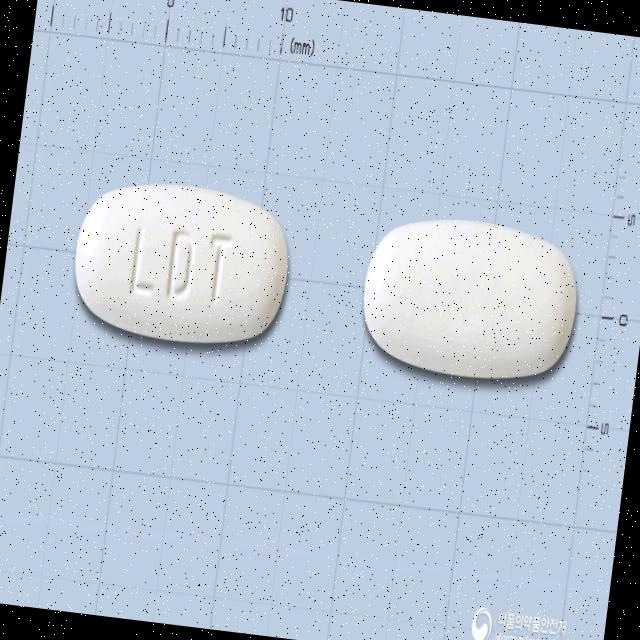Sebivo Tab: (65, 171, 298, 356), (354, 206, 586, 390)
